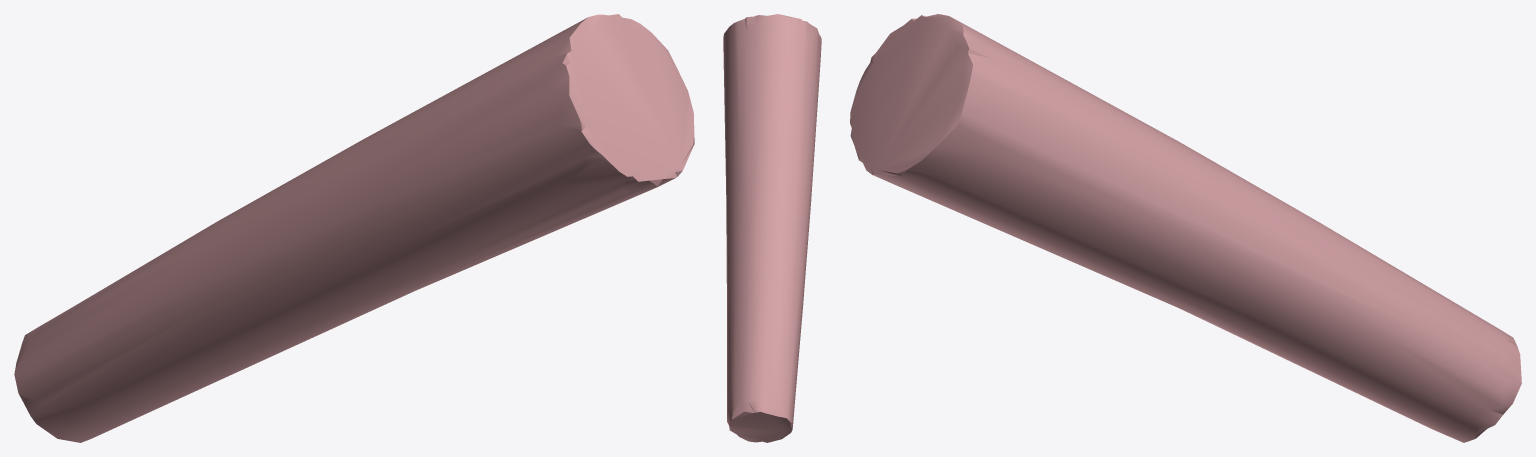
File: fma68221_fj2481.glb
The picture shows the model from 3 angles, left to right: view 1: azimuth 30°, elevation 25°; view 2: azimuth 150°, elevation 25°; view 3: azimuth 270°, elevation 25°; orthographic projection. The views are drawn at different scales.
Visible parts, largest first — view 1: FMA68221_FJ2481; view 2: FMA68221_FJ2481; view 3: FMA68221_FJ2481.
Boxes of the visible parts, box(x1,y1,x2,y2) form: FMA68221_FJ2481: box(14, 14, 694, 442); FMA68221_FJ2481: box(723, 14, 821, 442); FMA68221_FJ2481: box(850, 14, 1521, 442).
Bounding box in the file's own units: 0.00739 × 0.00987 × 0.0114.
